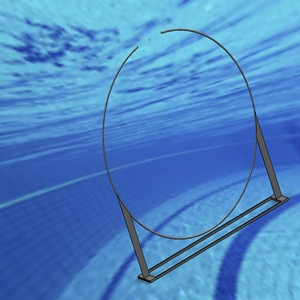circle: (100, 28, 289, 283)
